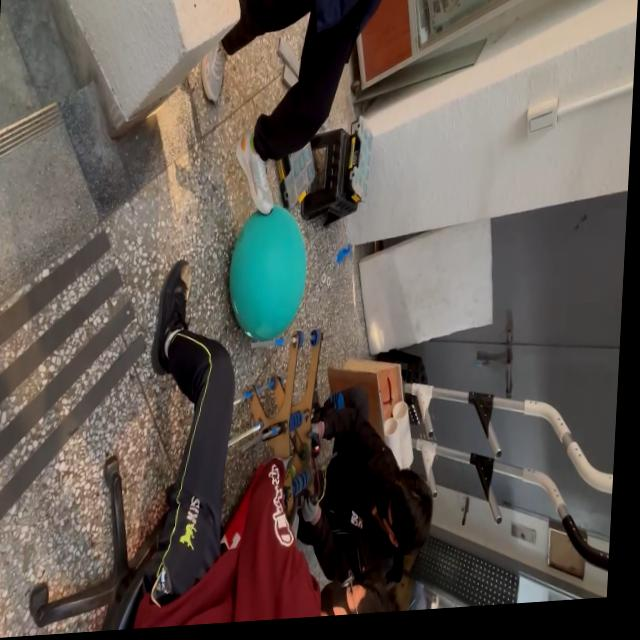ALGAE: (223, 200, 311, 345)
